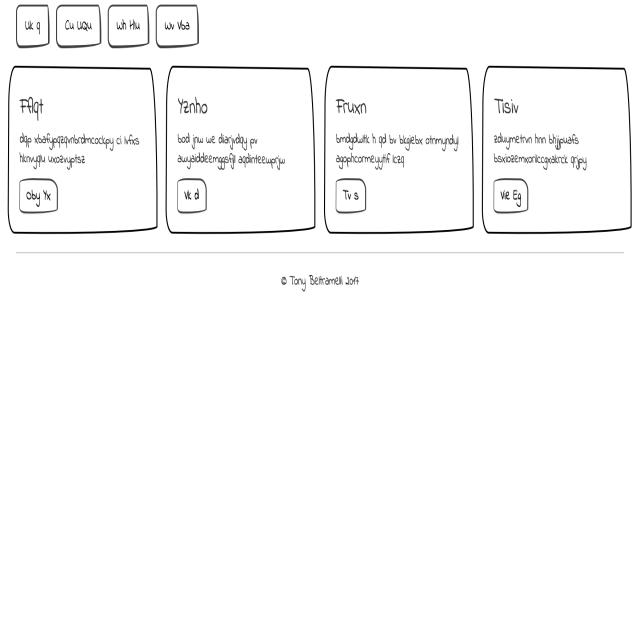Button: (13, 172, 68, 219), (486, 169, 534, 218), (332, 172, 376, 223), (176, 174, 217, 221)
Card: (479, 56, 633, 235), (8, 66, 161, 235), (323, 65, 473, 231), (168, 64, 310, 232)
Footer: (1, 246, 640, 640)
Heading 6: (176, 86, 221, 120), (336, 91, 384, 121), (21, 86, 47, 126), (495, 90, 534, 116)
Navigation Bar: (12, 5, 206, 52)
Paragraph: (329, 122, 464, 171), (17, 130, 145, 173), (493, 120, 601, 170), (176, 126, 296, 170)
